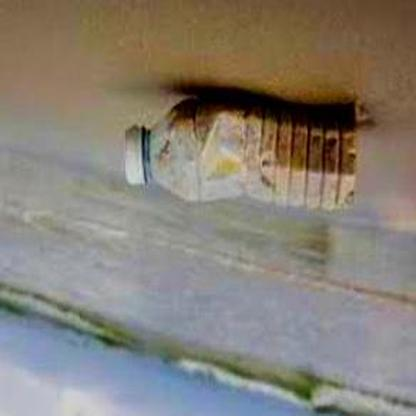plastic bottle: (122, 109, 355, 211)
